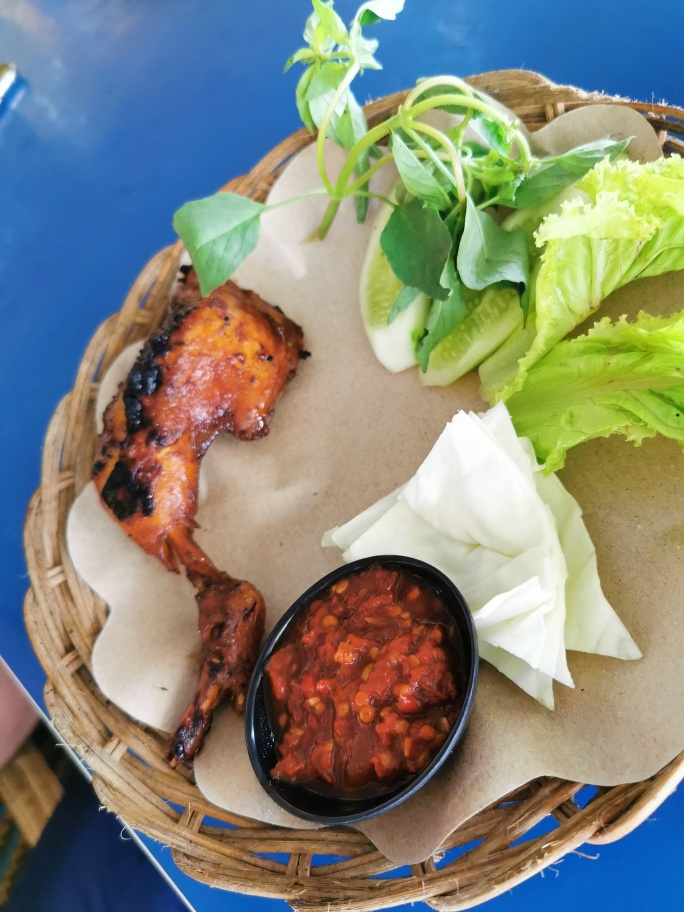ayam bakar: (79, 256, 312, 746)
